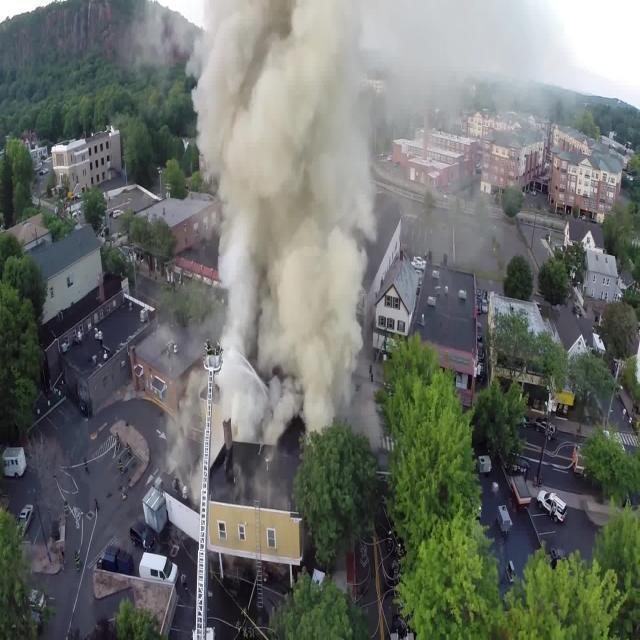Smoke: (185, 8, 386, 453)
